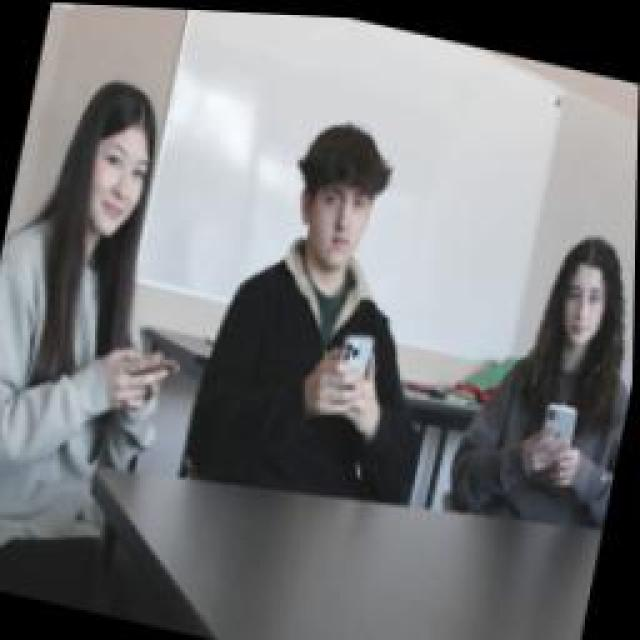phone: (188, 100, 478, 505), (0, 55, 230, 485), (442, 202, 638, 532)
